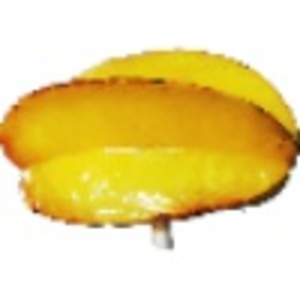carambola: (1, 46, 300, 244)
